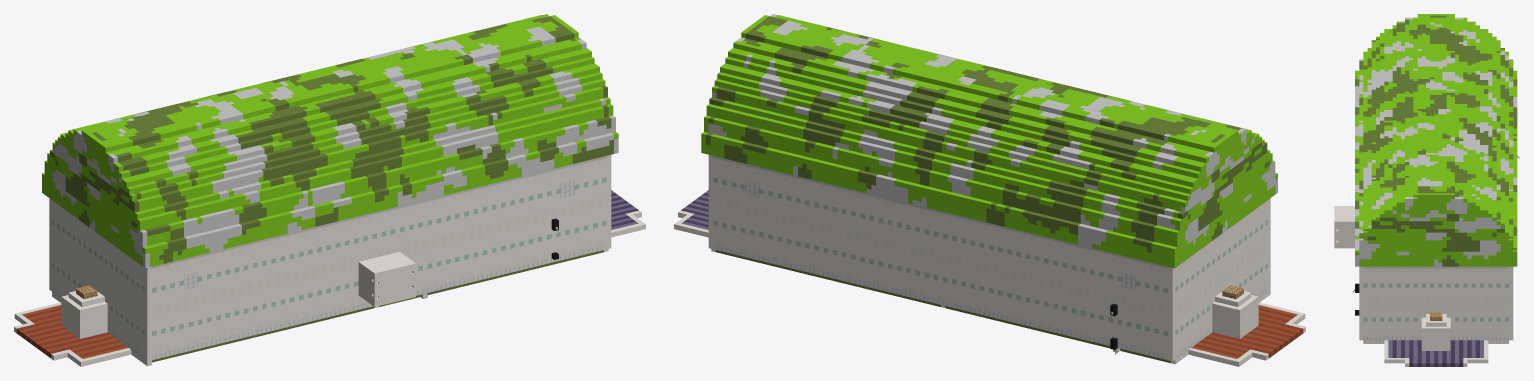
The model's file is minecraft.obj.
The picture shows the model from 3 angles, left to right: view 1: azimuth 30°, elevation 25°; view 2: azimuth 150°, elevation 25°; view 3: azimuth 270°, elevation 25°; orthographic projection. The views are drawn at different scales.
Bounding box in the file's own units: 128 × 41 × 44.55.
